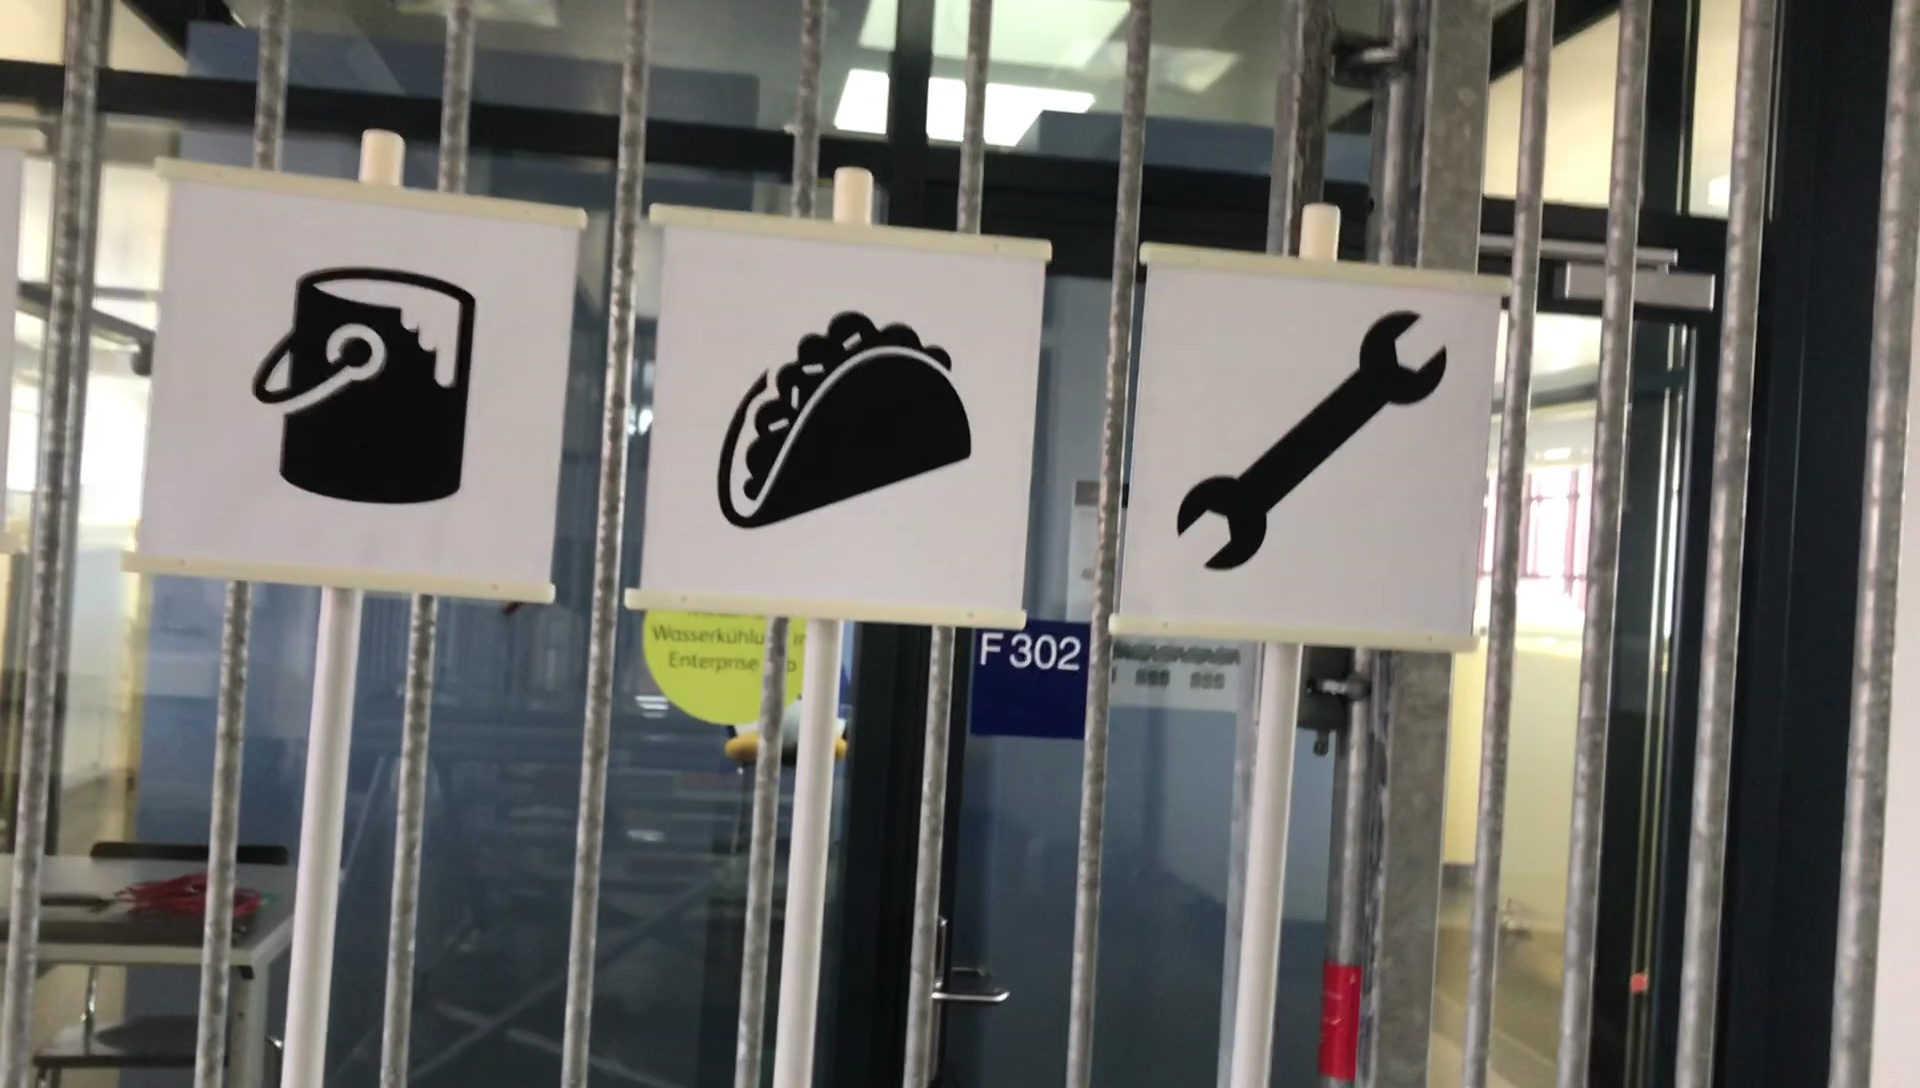bucket: (249, 258, 489, 510)
taco: (712, 291, 1000, 525)
wrench: (1179, 317, 1456, 582)
